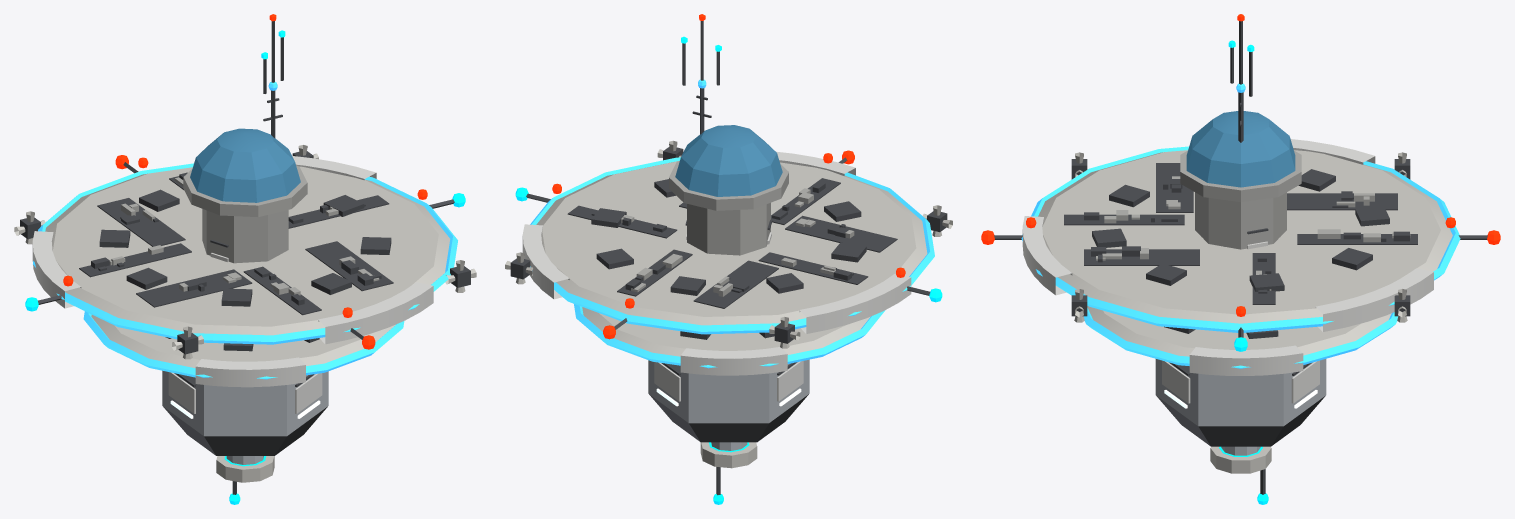
The model's file is wafer_fab.glb.
3 renders of one model, left to right at view 1: azimuth 30°, elevation 25°; view 2: azimuth 150°, elevation 25°; view 3: azimuth 270°, elevation 25°, orthographic. The views are drawn at different scales.
Visible parts, largest first — view 1: wafer_fab; view 2: wafer_fab; view 3: wafer_fab.
Boxes of the visible parts, x1,y1,x2,y2 form: wafer_fab: (14,14,476,504); wafer_fab: (505,14,952,504); wafer_fab: (981,14,1500,504).
Bounding box in the file's own units: 2 × 2.14 × 1.99.
